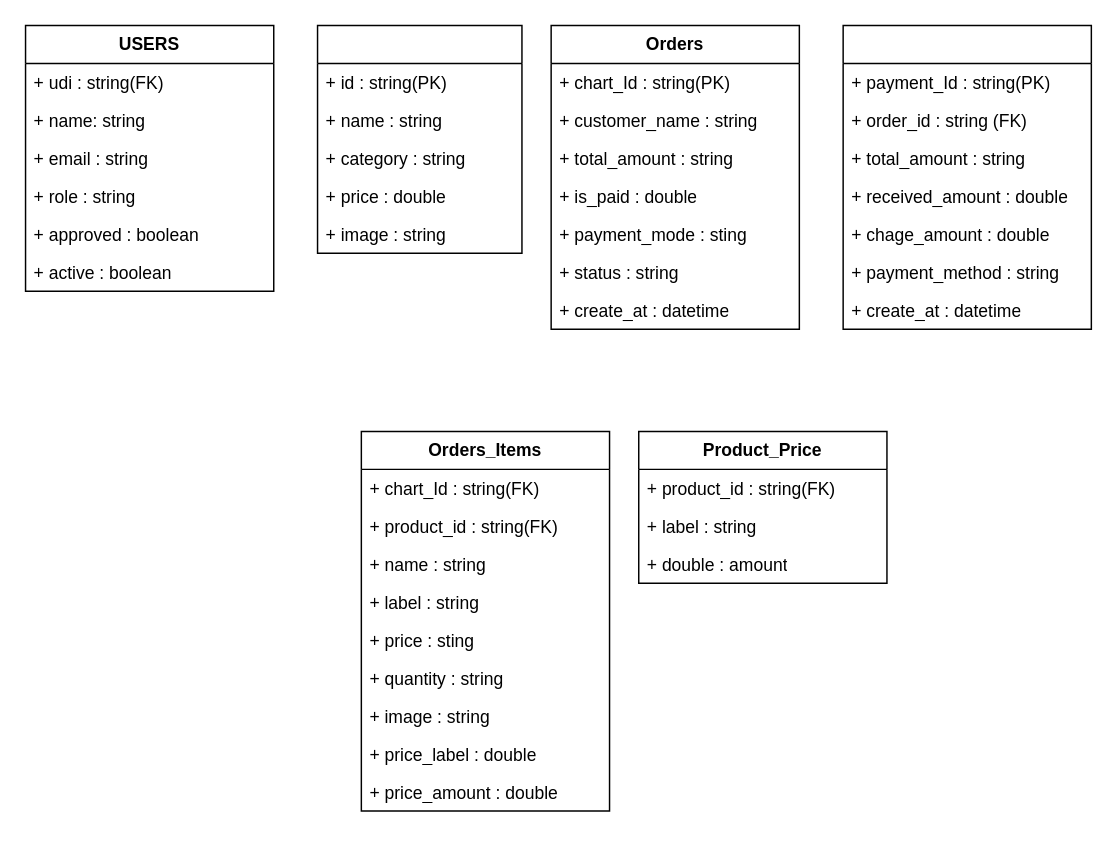
Some shapes in this 1117 by 841 pixel diagram are drawn without their labels. Here are the shapes that lost their labels. From the top down, the box of each, then its label:
(316, 24, 522, 253): Produk
(842, 24, 1091, 329): Payments
